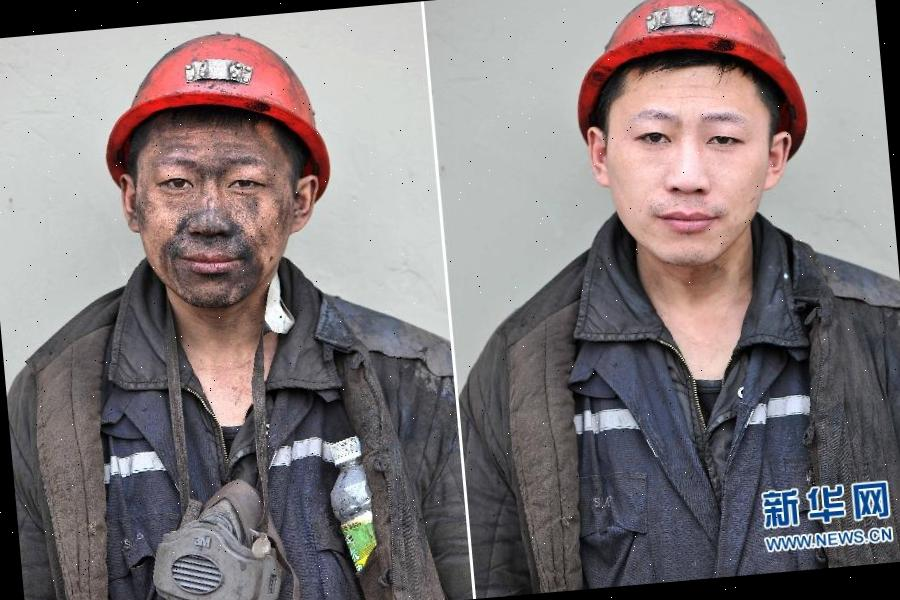helmet: (95, 18, 340, 214), (559, 0, 825, 156)
wear: (564, 266, 832, 588), (96, 313, 358, 600)
